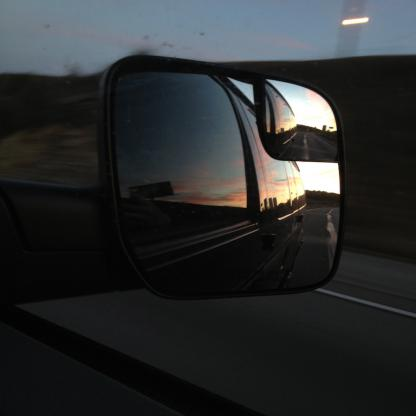Car: (112, 67, 346, 293)
